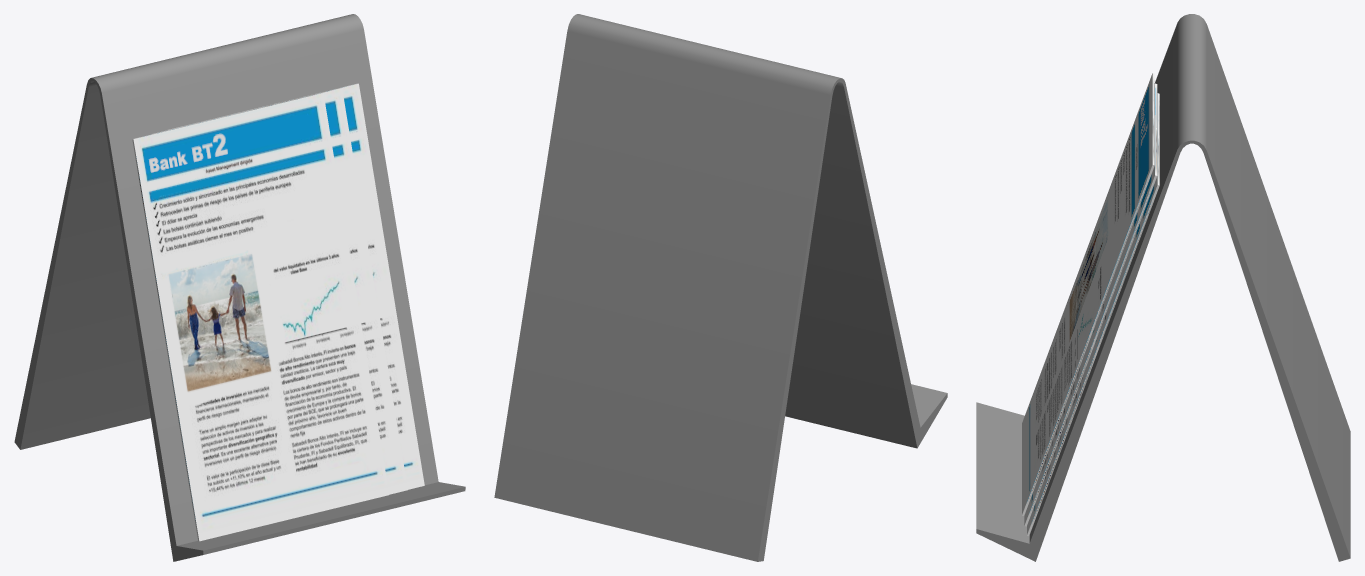
File: Leaflet holder.FBX
3 views of the same model, side by side, from view 1: azimuth 30°, elevation 25°; view 2: azimuth 150°, elevation 25°; view 3: azimuth 270°, elevation 25° (orthographic).
Parts seen in each view (by area): view 1: leaflet holder; view 2: leaflet holder; view 3: leaflet holder.
Part boxes in pixels (left/top/right/bottom): leaflet holder: left=14, top=14, right=465, bottom=561; leaflet holder: left=494, top=14, right=947, bottom=561; leaflet holder: left=976, top=14, right=1350, bottom=561.
Bounding box in the file's own units: 16.56 × 25.66 × 20.67.
2 materials, 1 textured.
